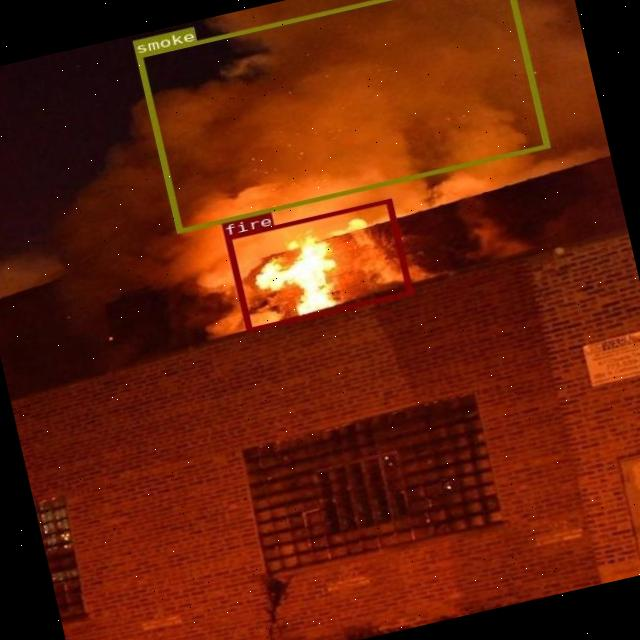fire: (224, 198, 412, 332)
smoke: (135, 0, 547, 232)
